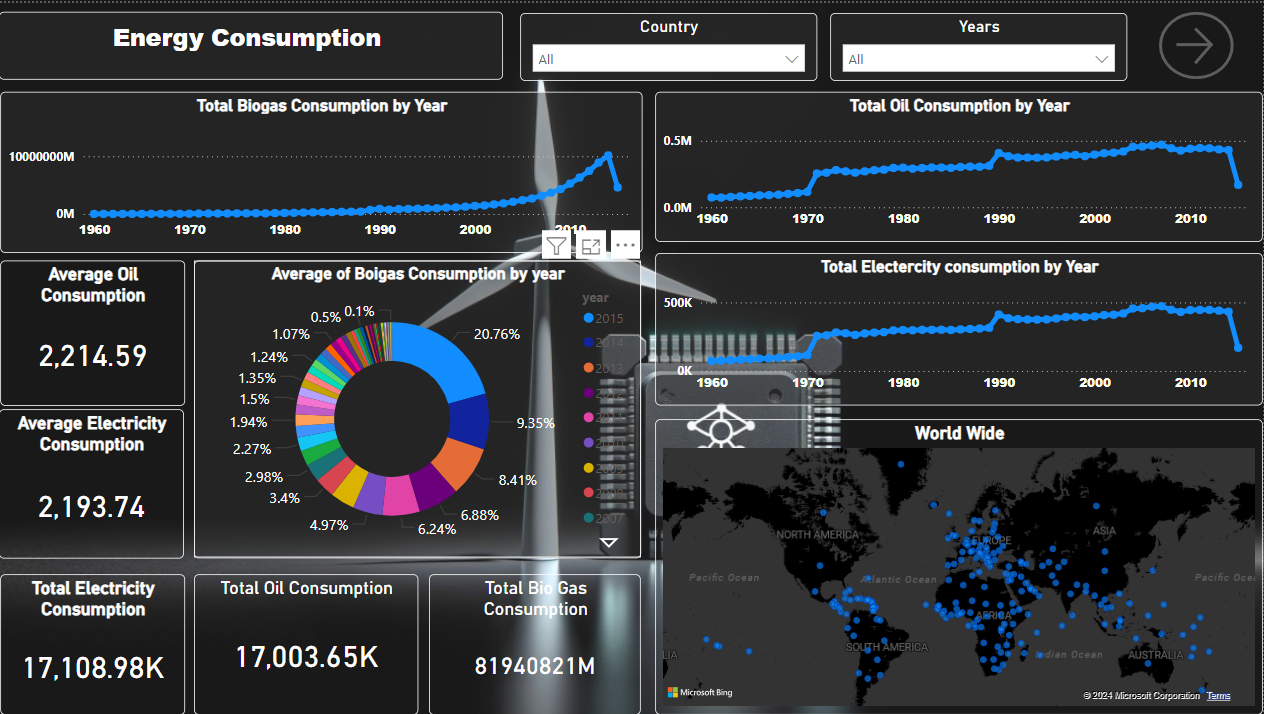

The dashboard page shown, as its layout file describes it:
{"tool":"powerbi","page":{"name":"Page 1","canvas":[1280,720],"ordinal":0},"visuals":[{"type":"textbox","box":[0,8.4,510.3,68.8],"z":0},{"type":"lineChart","title":"Total Biogas Consumption by Year","fields":{"Y":["Sum(Boigas_consumption.biogas_cons)"],"Category":["Boigas_consumption.year"]},"box":[1.2,89.3,650.3,162.9],"z":1000},{"type":"lineChart","title":"Total Oil Consumption by Year","fields":{"Category":["energy_consumption oil_consumption.Year"],"Y":["Sum(energy_consumption oil_consumption.oil_conumption)"]},"box":[664.7,90.5,615.3,152],"z":2000},{"type":"lineChart","title":"Total Electercity consumption  by Year","fields":{"Y":["Sum(energy_consumption electricity_consumption_data.total_consumption)"],"Category":["energy_consumption electricity_consumption_data.Year"]},"box":[664.7,253.4,615.3,154.4],"z":3000},{"type":"map","title":"World Wide","fields":{"Category":["energy_consumption water_consumption.Country"]},"box":[664.7,421,615.3,299.2],"z":4000},{"type":"card","title":"Total Bio Gas Consumption","fields":{"Values":["Sum(Boigas_consumption.biogas_cons)"]},"box":[435.5,577.9,214.7,142.4],"z":5000},{"type":"card","title":"Total Oil Consumption","fields":{"Values":["Sum(energy_consumption oil_consumption.oil_conumption)"]},"box":[197.9,577.9,226.8,142.4],"z":6000},{"type":"card","title":"Total Electricity Consumption","fields":{"Values":["Sum(energy_consumption electricity_consumption_data.total_consumption)"]},"box":[1.2,577.9,187,142.4],"z":7000},{"type":"donutChart","title":"Average of Boigas Consumption by year","fields":{"Y":["Avg(Boigas_consumption.biogas_cons)"],"Category":["Boigas_consumption.year"]},"box":[197.9,260.6,452.4,301.6],"z":8000},{"type":"card","title":"Average Electricity Consumption","fields":{"Values":["Avg(energy_consumption electricity_consumption_data.total_consumption)"]},"box":[0,411.4,187,150.8],"z":9000},{"type":"card","title":"Average Oil Consumption","fields":{"Values":["Avg(energy_consumption oil_consumption.oil_conumption)"]},"box":[1.2,260.6,187,147.2],"z":10000},{"type":"slicer","title":"Country","fields":{"Values":["Boigas_consumption.country"]},"box":[528.4,9.7,300.4,68.8],"z":11000},{"type":"slicer","title":"Years","fields":{"Values":["Boigas_consumption.year"]},"box":[842.1,9.7,300.4,68.8],"z":12000},{"type":"actionButton","box":[1174.4,8.5,75.6,68.3],"z":13000}]}

Visuals, with their boxes in screenshot pixels (x1, y1, x2, y2), scaled from the page's 1280x720 canvas onto the 1264x714 screenshot:
textbox: <box>0,8,504,77</box>
"Total Biogas Consumption by Year" lineChart: <box>1,89,643,250</box>
"Total Oil Consumption by Year" lineChart: <box>656,90,1263,240</box>
"Total Electercity consumption  by Year" lineChart: <box>656,251,1263,404</box>
"World Wide" map: <box>656,417,1263,713</box>
"Total Bio Gas Consumption" card: <box>430,573,642,713</box>
"Total Oil Consumption" card: <box>195,573,419,713</box>
"Total Electricity Consumption" card: <box>1,573,186,713</box>
"Average of Boigas Consumption by year" donutChart: <box>195,258,642,558</box>
"Average Electricity Consumption" card: <box>0,408,185,558</box>
"Average Oil Consumption" card: <box>1,258,186,404</box>
"Country" slicer: <box>522,10,818,78</box>
"Years" slicer: <box>832,10,1128,78</box>
actionButton: <box>1160,8,1234,76</box>
